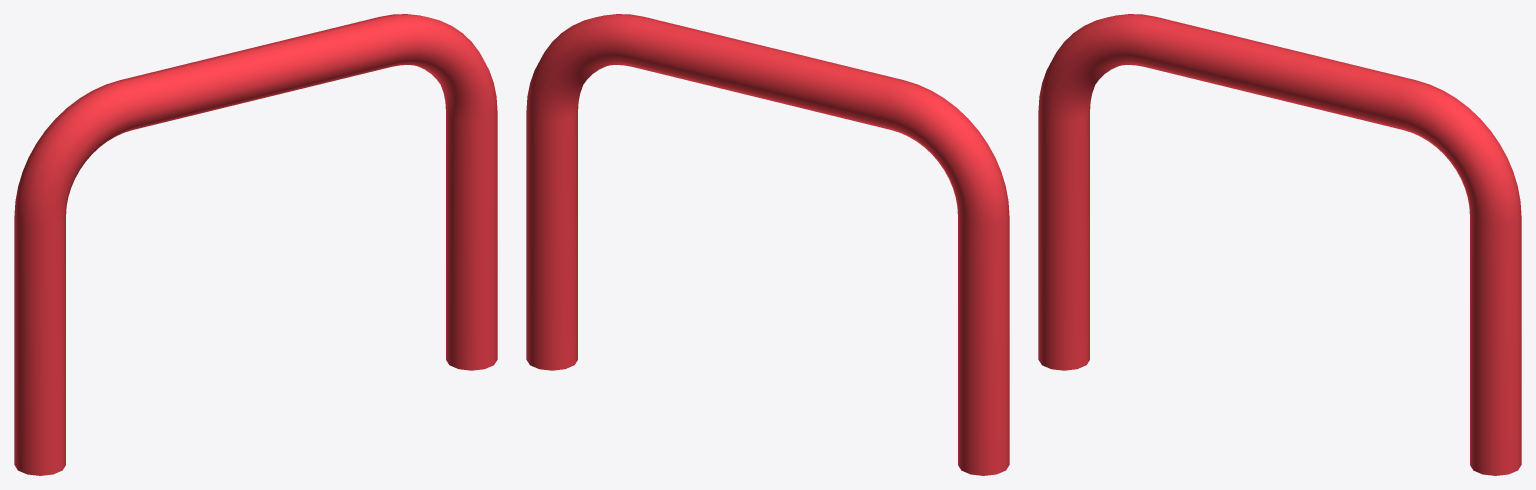
Rendered from gateLargeWide_teamRed.glb.
3 renders of one model, left to right at view 1: azimuth 30°, elevation 25°; view 2: azimuth 150°, elevation 25°; view 3: azimuth 330°, elevation 25°, orthographic.
Visible parts, largest first — view 1: gateLargeWide_teamRed; view 2: gateLargeWide_teamRed; view 3: gateLargeWide_teamRed.
Boxes of the visible parts, <box> form: gateLargeWide_teamRed: <box>14,14,497,475</box>; gateLargeWide_teamRed: <box>526,14,1009,475</box>; gateLargeWide_teamRed: <box>1038,14,1521,475</box>.
Size of the model in its own units: 1.3 by 0.9472 by 0.1221.
